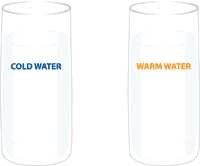glass of water: (134, 10, 190, 154), (15, 7, 64, 154)
